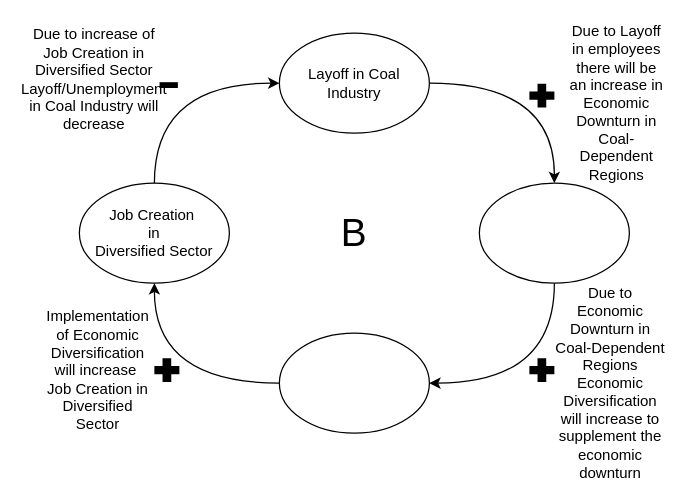
Image size: 689x504. Some labels were removed from this diagram. Here are the shapes that lost their labels. From the top down, the centre of each, then its label:
At point (553, 232): "Economic Downturn in Coal-Dependent Regions".
At point (353, 382): "Economic Diversification".
